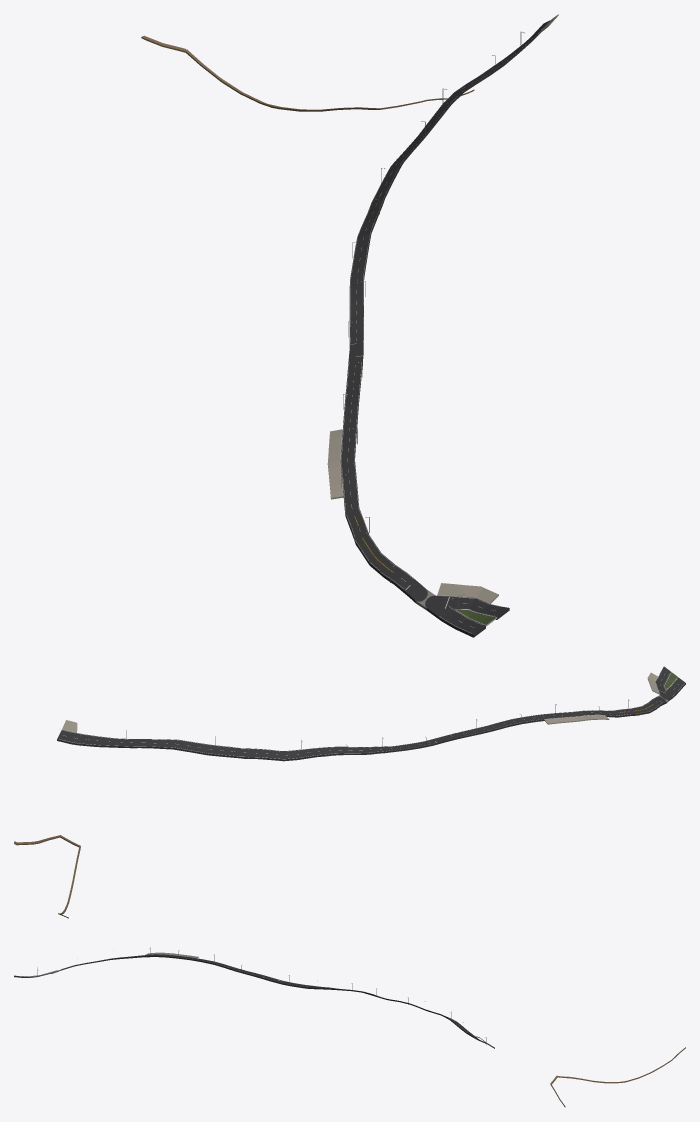
3 renders of one model, top to bottom at view 1: azimuth 30°, elevation 25°; view 2: azimuth 150°, elevation 25°; view 3: azimuth 270°, elevation 25°, orthographic. The views are drawn at different scales.
Size of the model in its own units: 289 by 77.42 by 583.
